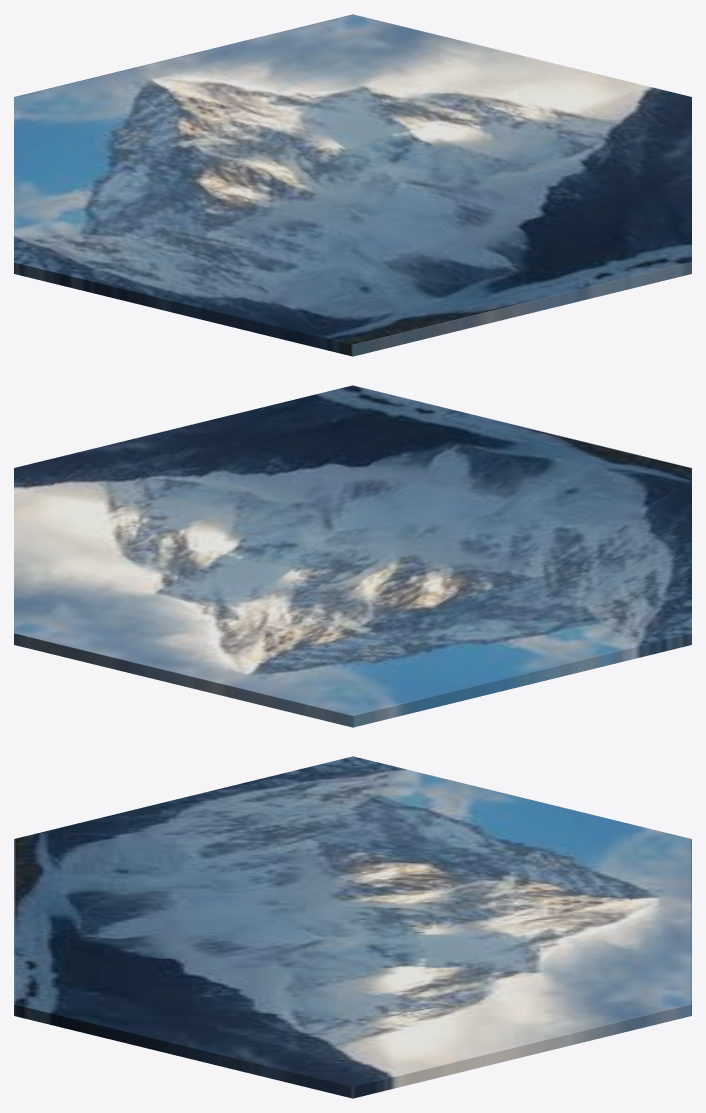
Rendered from hex.FBX.
3 renders of one model, top to bottom at view 1: azimuth 30°, elevation 25°; view 2: azimuth 150°, elevation 25°; view 3: azimuth 270°, elevation 25°, orthographic.
Parts seen in each view (by area): view 1: Cylinder001; view 2: Cylinder001; view 3: Cylinder001.
Part boxes in pixels (box(x1,y1,x2,y2)): Cylinder001: box(14, 14, 691, 356); Cylinder001: box(14, 385, 691, 727); Cylinder001: box(14, 756, 691, 1098).
Bounding box in the file's own units: 94.74 × 1.53 × 82.05.
